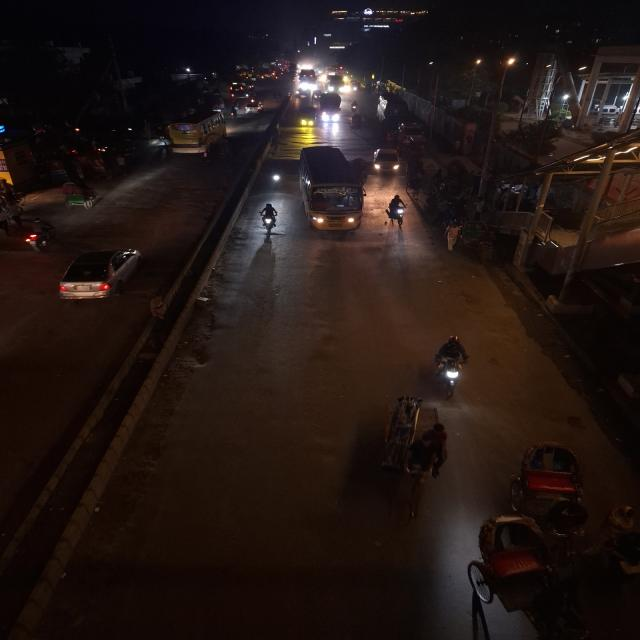bus: (297, 144, 370, 235), (164, 109, 228, 157), (374, 92, 404, 122), (297, 68, 319, 92)
car: (52, 244, 143, 304), (370, 146, 402, 176), (229, 83, 246, 97), (245, 100, 260, 112)
cng: (299, 108, 317, 128)
motorcycle: (431, 332, 474, 403), (23, 217, 57, 253), (384, 192, 409, 230), (258, 201, 281, 237), (267, 160, 284, 190), (349, 98, 362, 115)
rickshaw: (466, 510, 574, 640), (507, 440, 598, 550), (399, 394, 450, 520), (56, 180, 102, 211), (0, 180, 33, 212), (76, 156, 112, 180), (38, 159, 71, 183)
truck: (317, 91, 344, 121)
